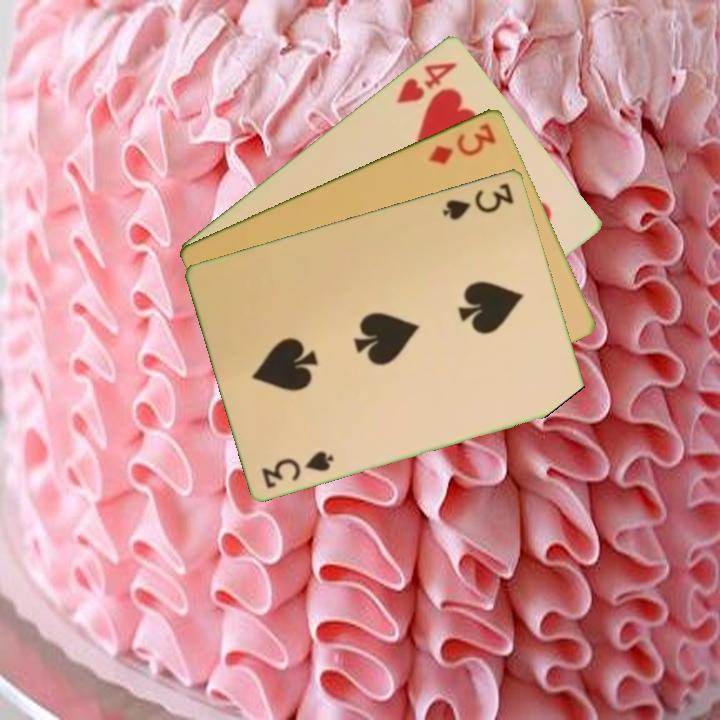3d: (425, 119, 500, 167)
3s: (258, 446, 337, 491), (439, 179, 517, 223)
4h: (392, 58, 461, 107)
